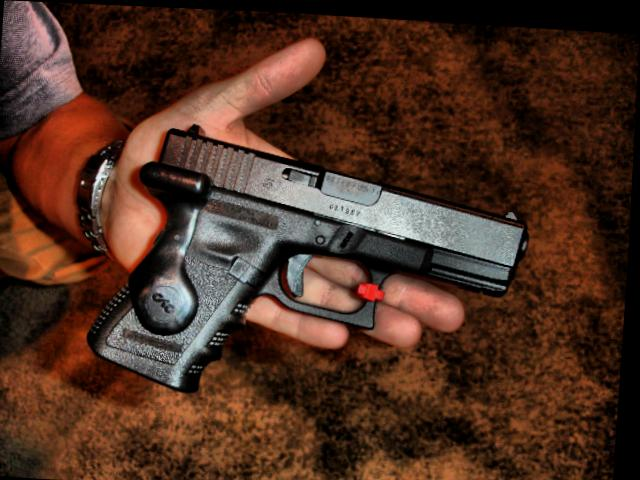pistol: (89, 110, 542, 419)
